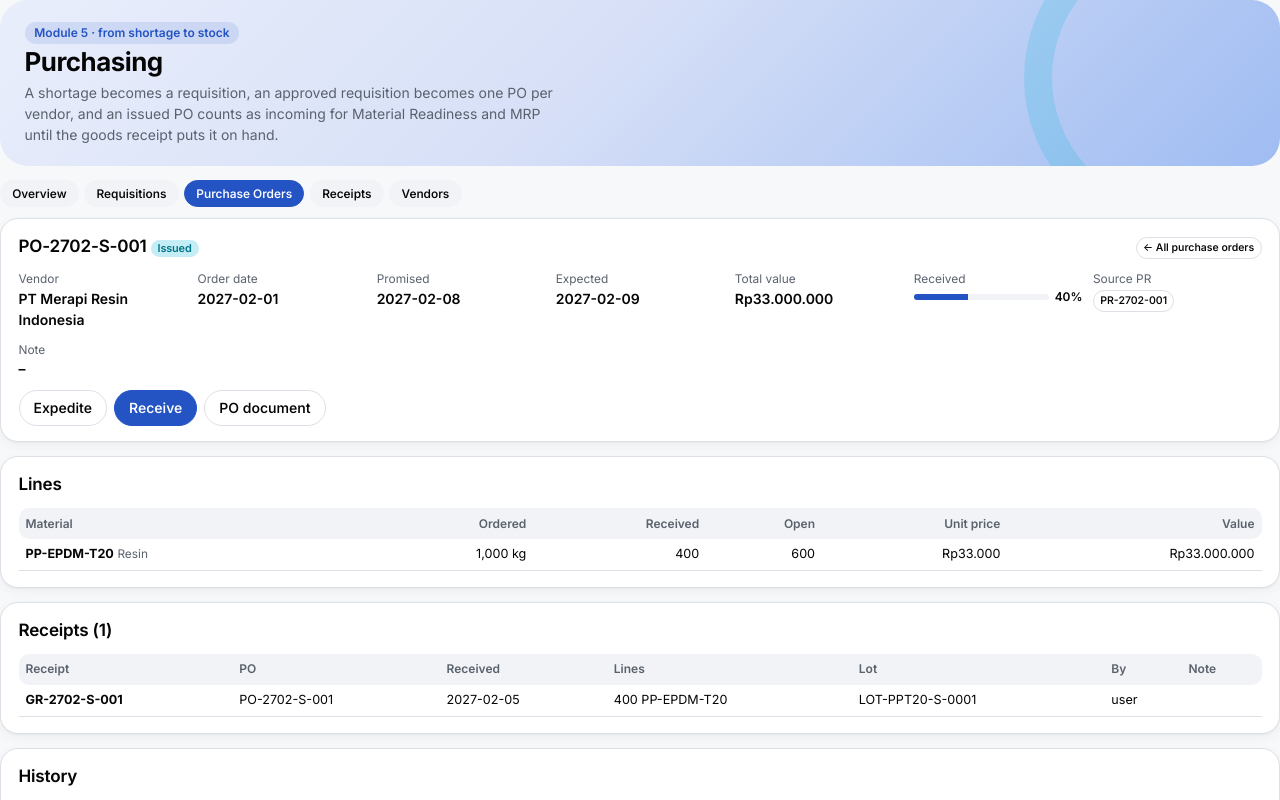
Test: receive: defaults to the open qty, enforces the 5% tolerance and toasts the new stock
This screenshot has width=1280, height=800.
Click the button "Receive": (156, 408) [114, 390, 197, 426]
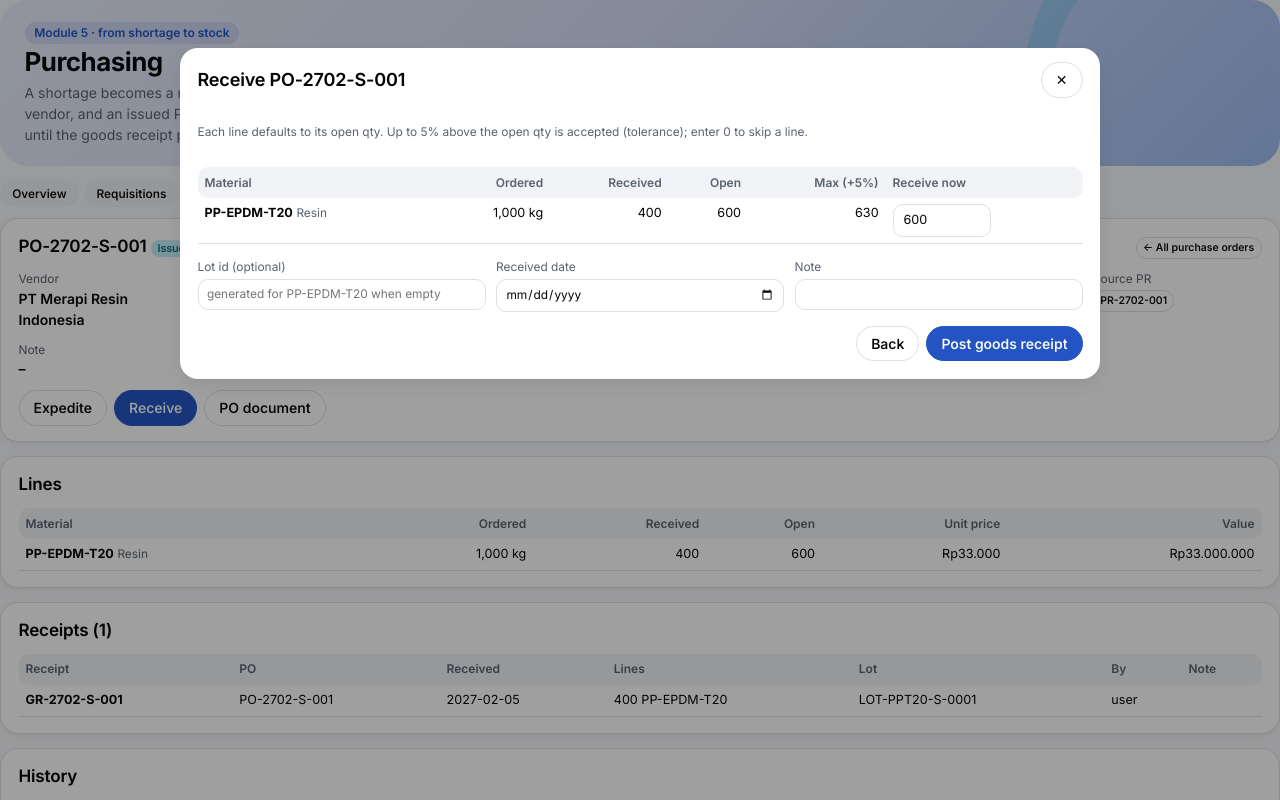
Now the number field named "Receive qty of PP-EPDM-T20" holds "600"
Now the text "630" is shown, box [748, 198, 886, 244]
Replace the text in the number field named "Receive qty of PP-EPDM-T20" with "631": (942, 220) [893, 204, 991, 237]
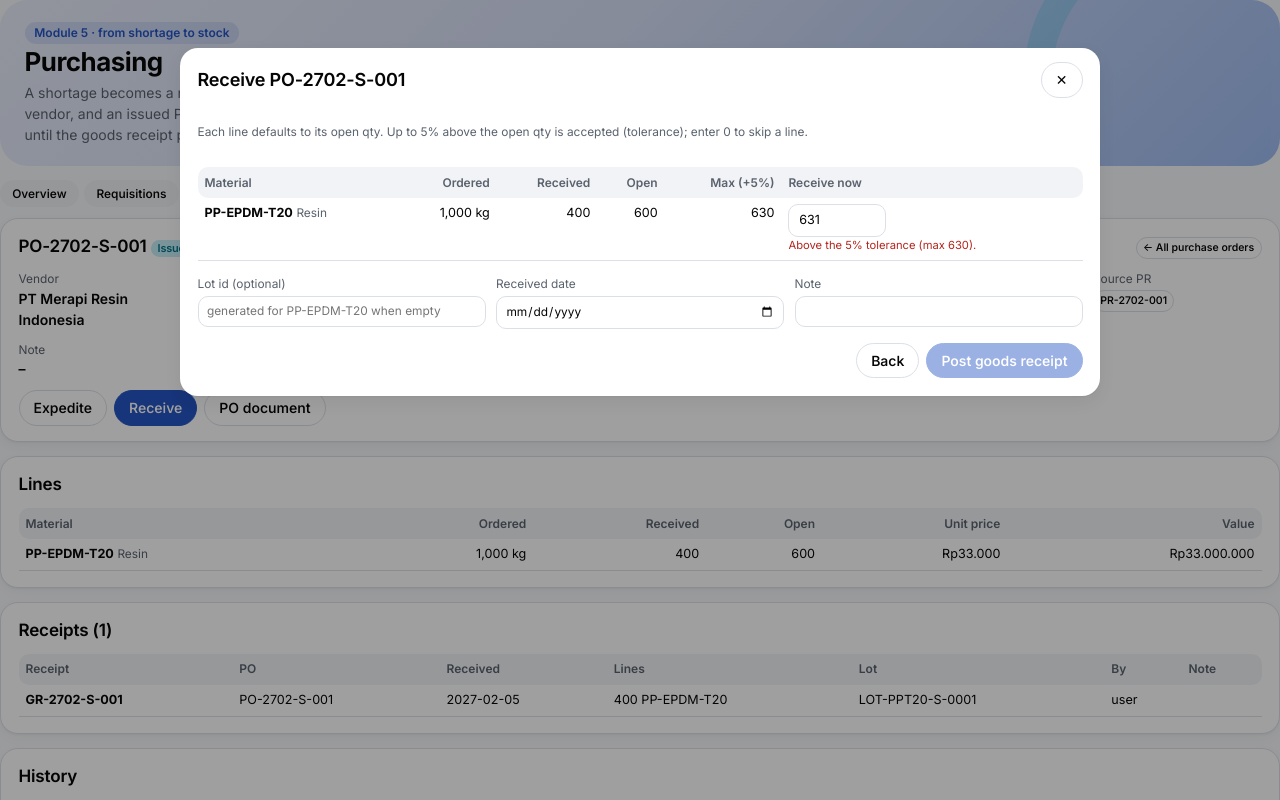
Now the text "Above the 5% tolerance (max 630)." is shown, box [788, 238, 976, 252]
Now the button "Post goods receipt" is disabled, box [926, 343, 1082, 378]
Replace the text in the number field named "Receive qty of PP-EPDM-T20" with "600": (837, 220) [788, 204, 886, 237]
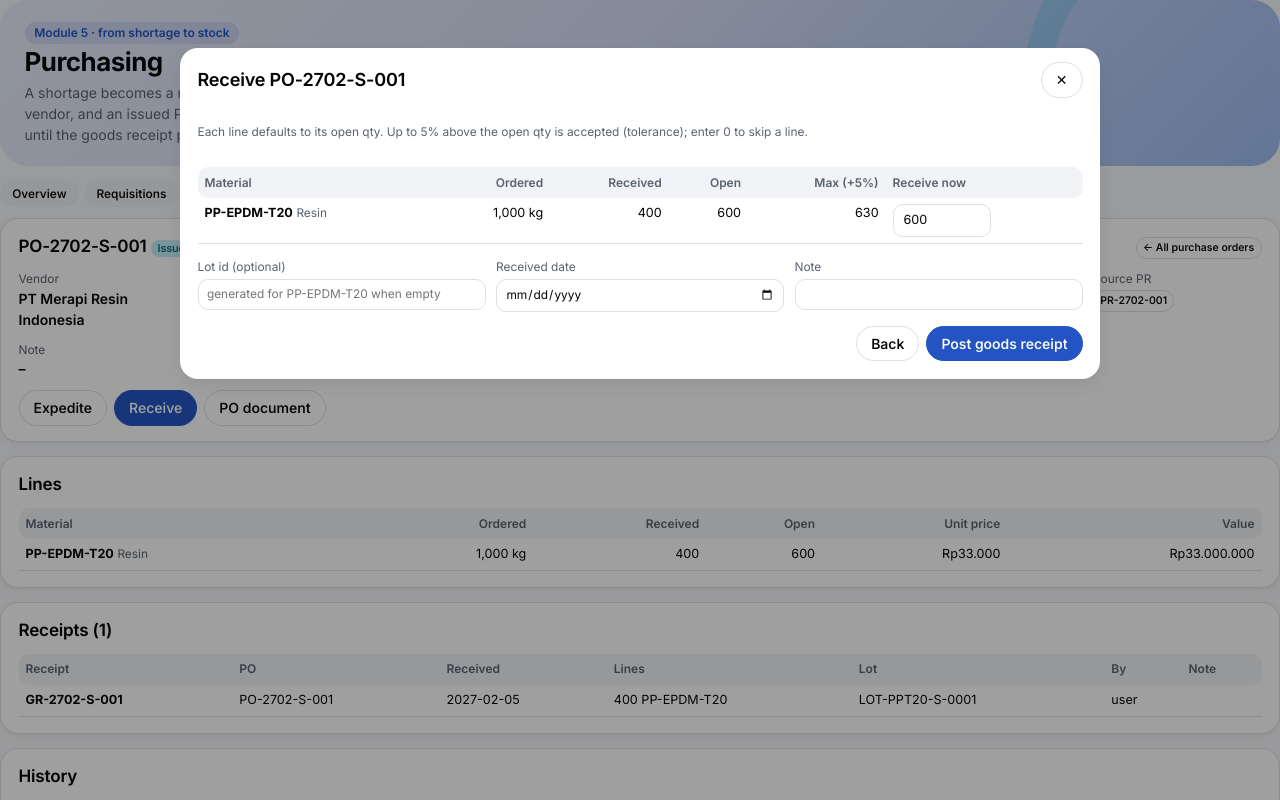
In the field labelled "Lot id": (342, 294) [198, 279, 486, 310], type "LOT-X"
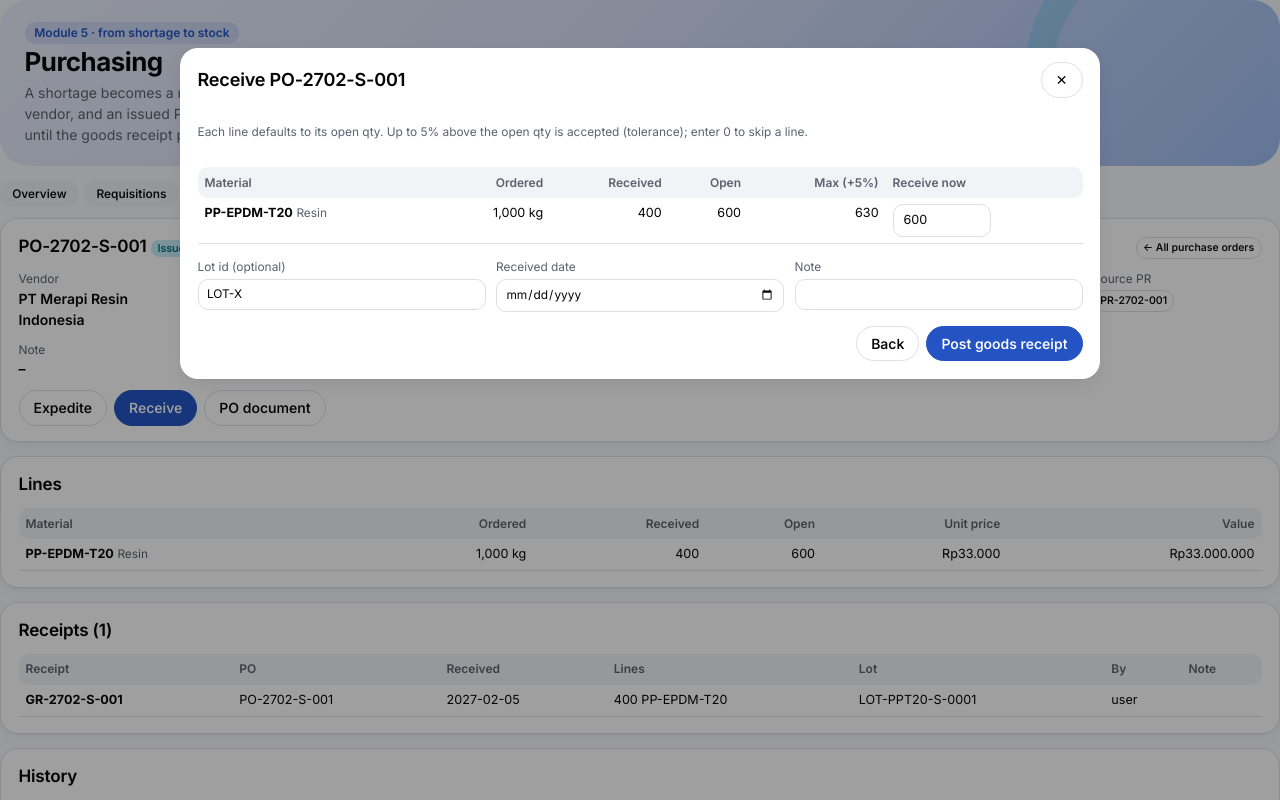
Click the button "Post goods receipt": (1004, 344) [926, 326, 1082, 361]
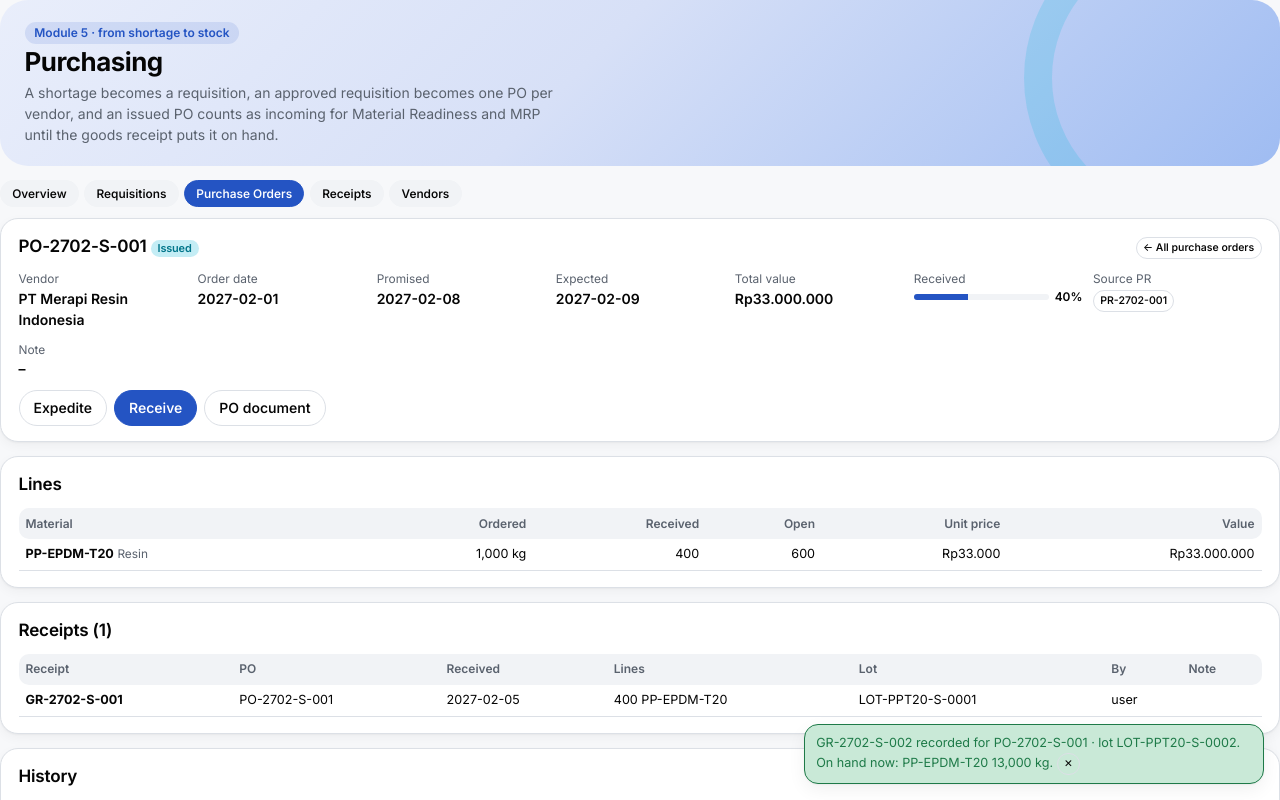
Now the message shows "GR-2702-S-002 recorded for PO-2702-S-001 · lot LOT-PPT20-S-0002. On hand now: PP-EPDM-T20 13,000 kg.", box [816, 735, 1240, 770]
Now the heading "Receive PO-2702-S-001" is gone
